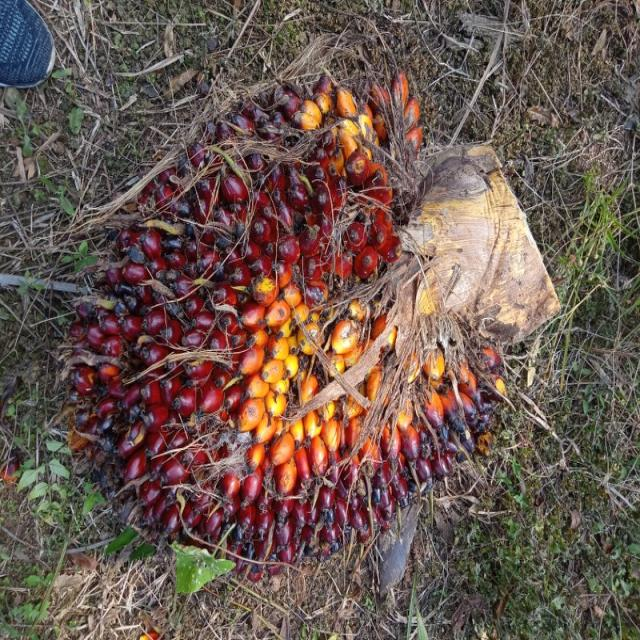fraksi 1: (65, 89, 500, 574)
